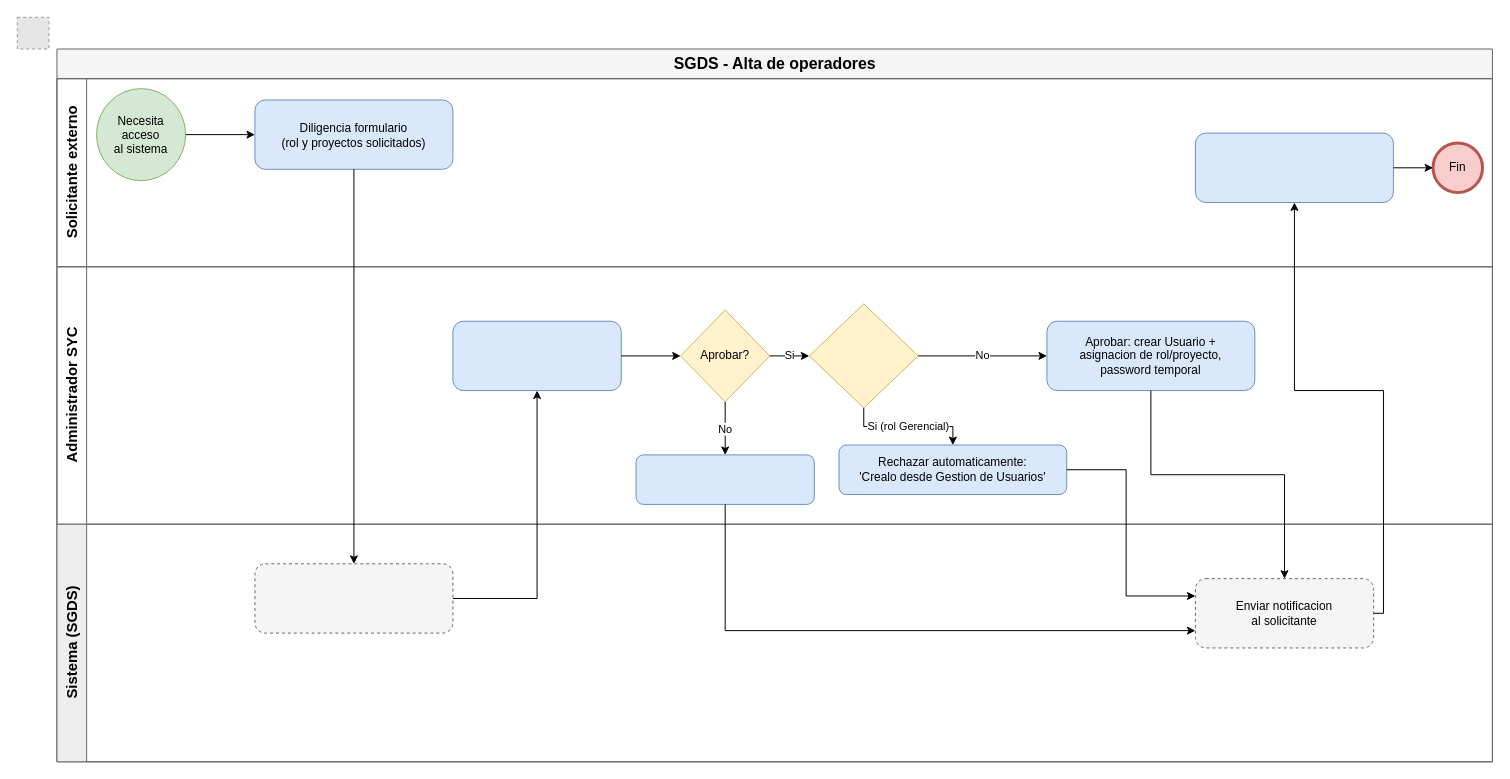
The diagram is 1510 pixels wide and 779 high, and some of its shapes have lost their labels. Grey dashed boxes stand in for pictures. Each missing label, with the centre of its shape:
Rechazar solicitud (registrar motivo): (x=724, y=479)
Recibe credenciales o notificacion de rechazo: (x=1293, y=167)
Registrar SolicitudAcceso (Estado = Pendiente): (x=353, y=598)
Revisa solicitud pendiente: (x=536, y=355)
Rol = Gerencial?: (x=863, y=355)
